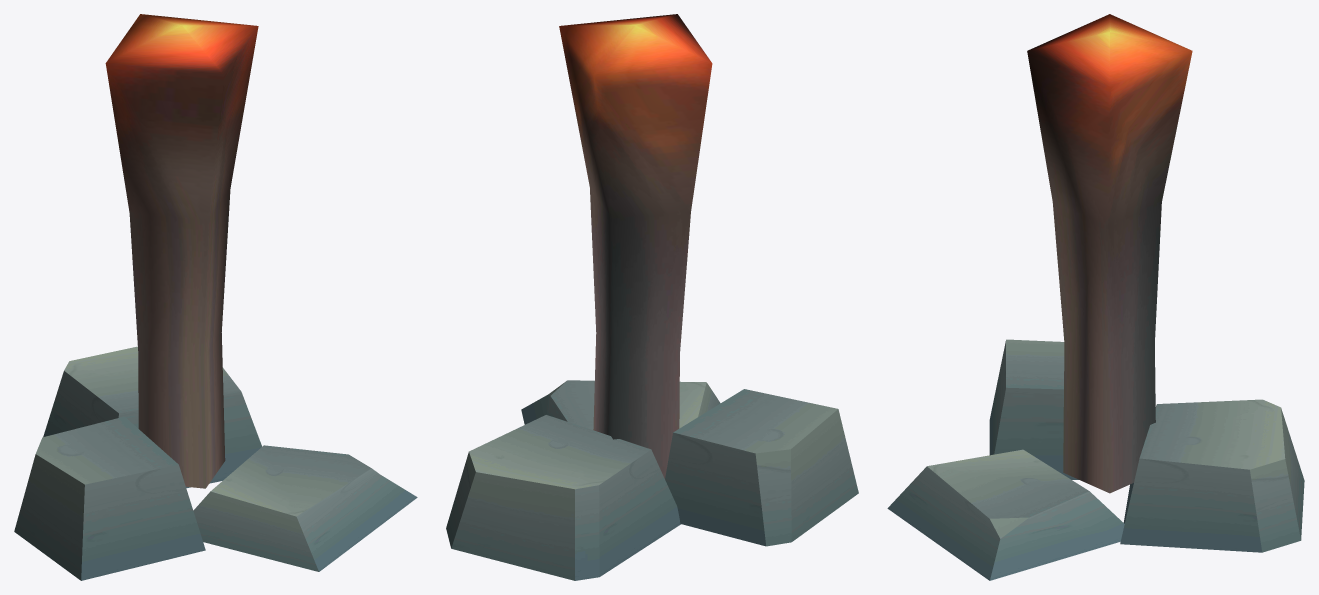
The model's file is FloorDeco2B-003_02_25_0564.fbx.
The picture shows the model from 3 angles, left to right: view 1: azimuth 30°, elevation 25°; view 2: azimuth 150°, elevation 25°; view 3: azimuth 270°, elevation 25°; orthographic projection.
Parts seen in each view (by area): view 1: Torch; view 2: Torch; view 3: Torch.
Boxes of the visible parts, x1=… form: Torch: x1=14, y1=14, x2=417, y2=580; Torch: x1=446, y1=14, x2=858, y2=580; Torch: x1=887, y1=14, x2=1304, y2=580.
Bounding box in the file's own units: 1.47 × 1.97 × 1.59.
